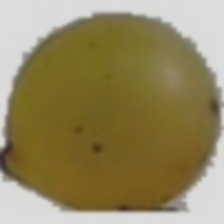grapes: (37, 31, 222, 168)
